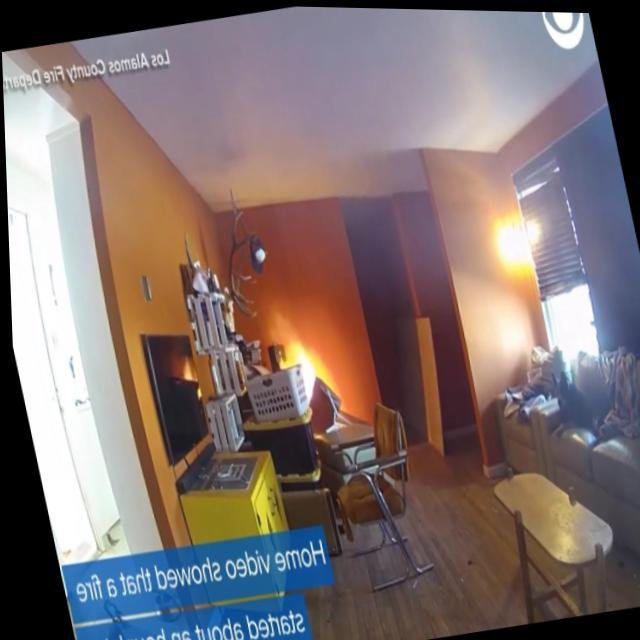fire: (274, 333, 323, 407)
